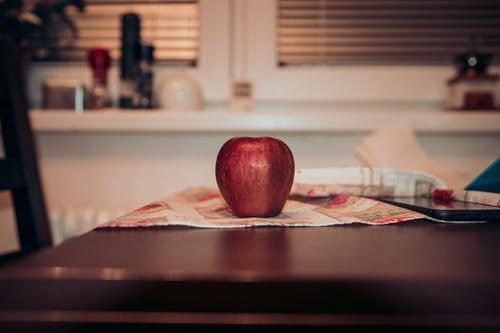apple: (213, 135, 295, 220)
